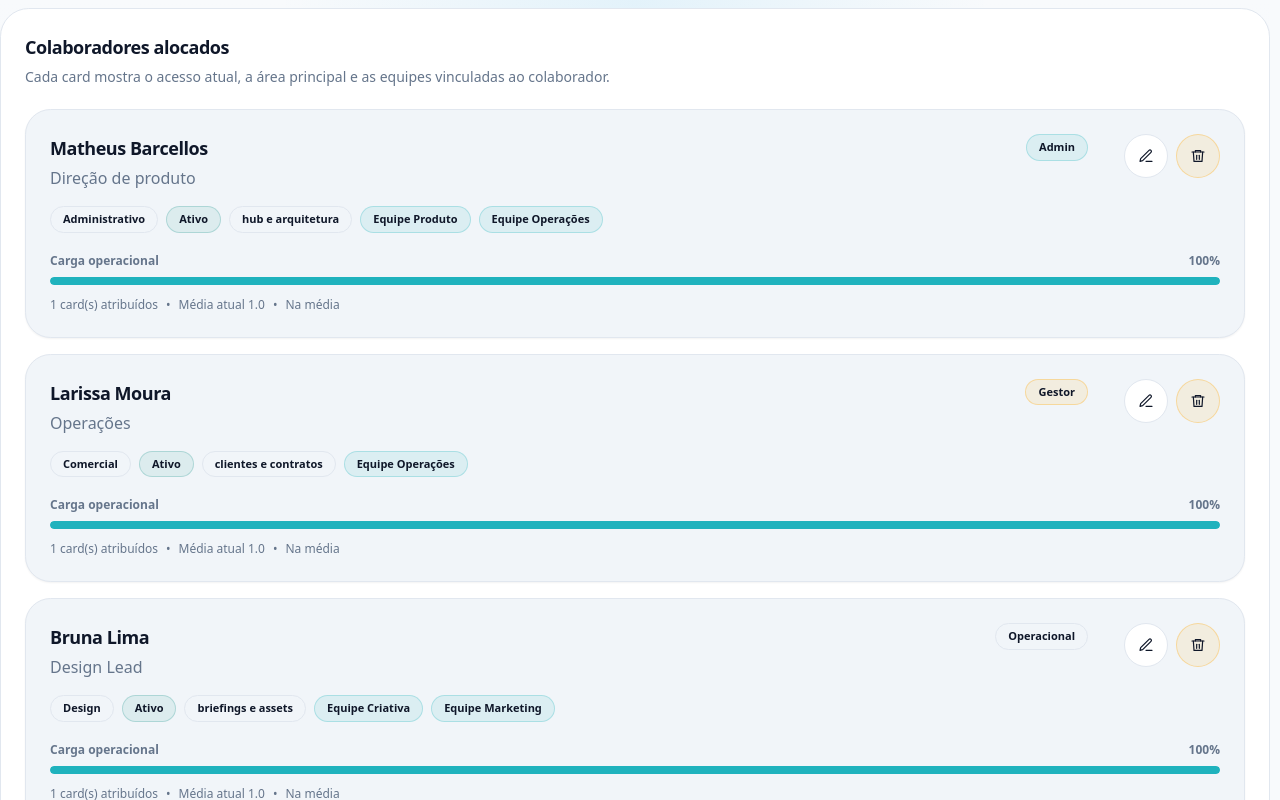
Test: AdministrativoColaboradoresPage › edits and removes an existing collaborator
(page scrolled)
Expected: the text "Larissa Moura" is shown, [50,380,171,404]
Click the button named "Editar colaborador Larissa Moura" at (1146, 400), box [1124,378,1168,422]
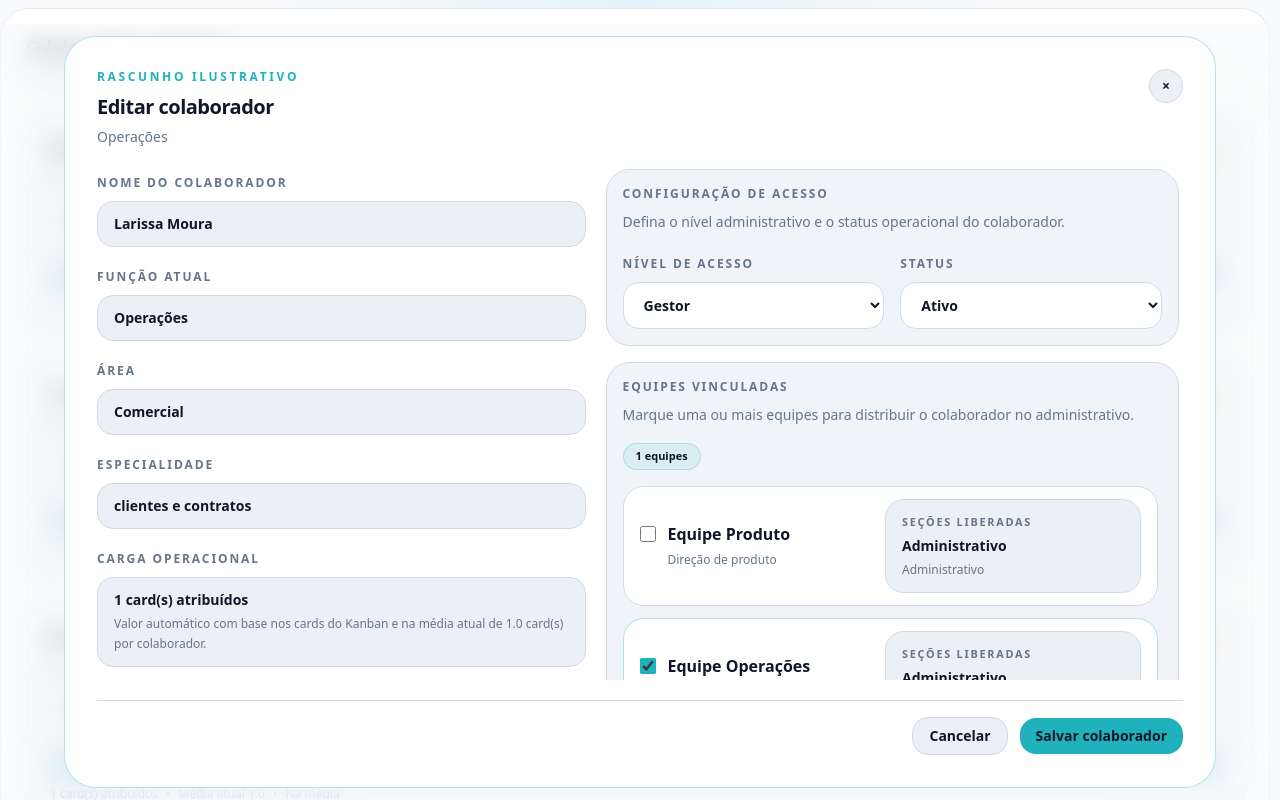
Now the dialog is shown
Replace the text in the field labelled "Nome do colaborador" with "Larissa Moura Atualizada" at (341, 224), box [97,201,586,247]
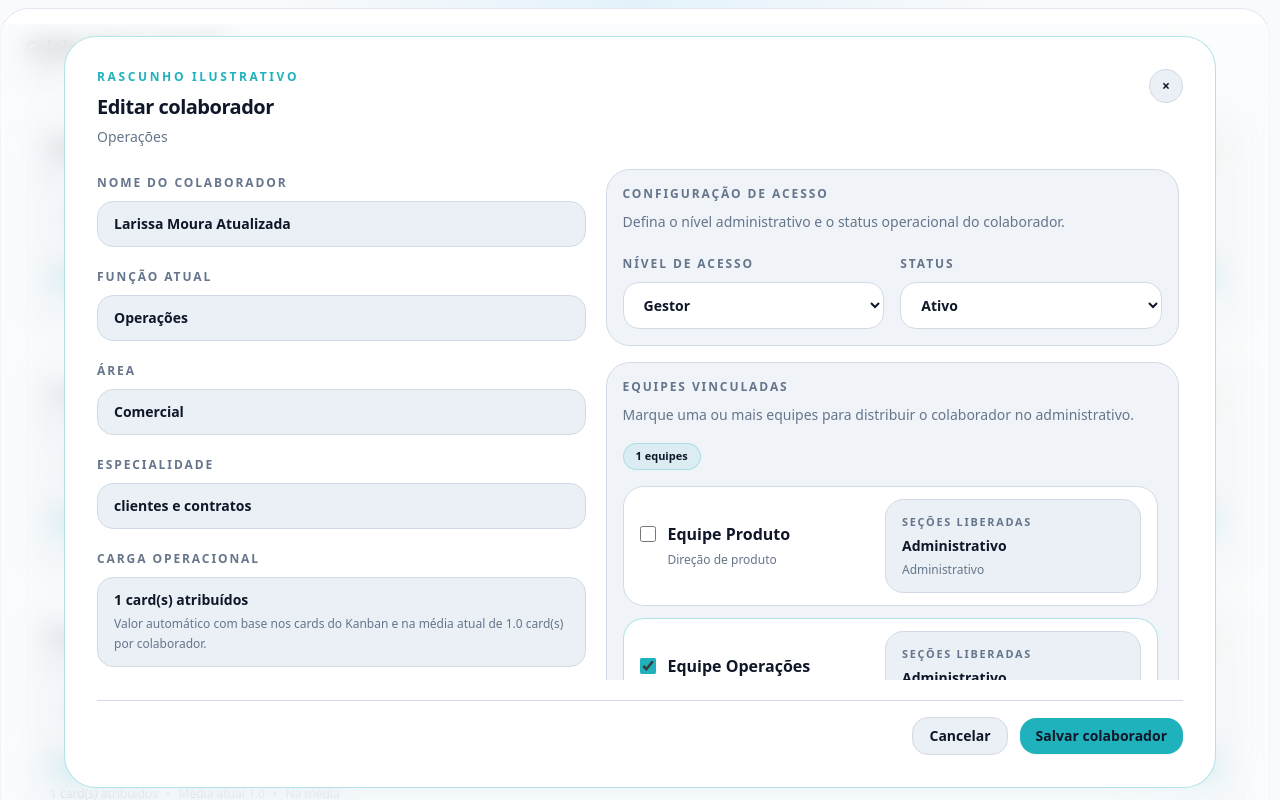
Click the button "Salvar colaborador" at (1101, 736), box [1020,718,1183,754]
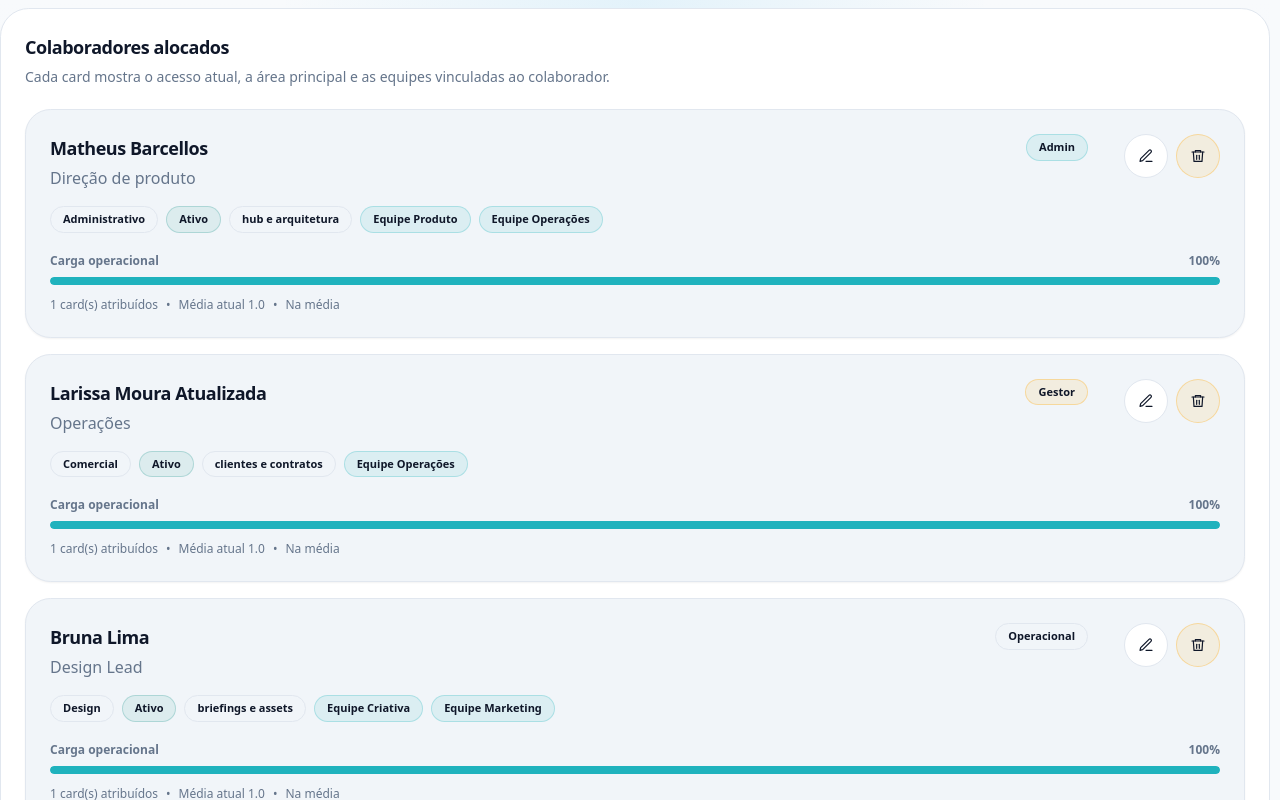
Expected: the text "Larissa Moura" is shown, [50,380,266,404]
Now the text "Larissa Moura Atualizada" is shown, box [50,378,266,406]
Click the button named "Remover colaborador Larissa Moura Atualizada" at (1198, 400), box [1176,378,1220,422]
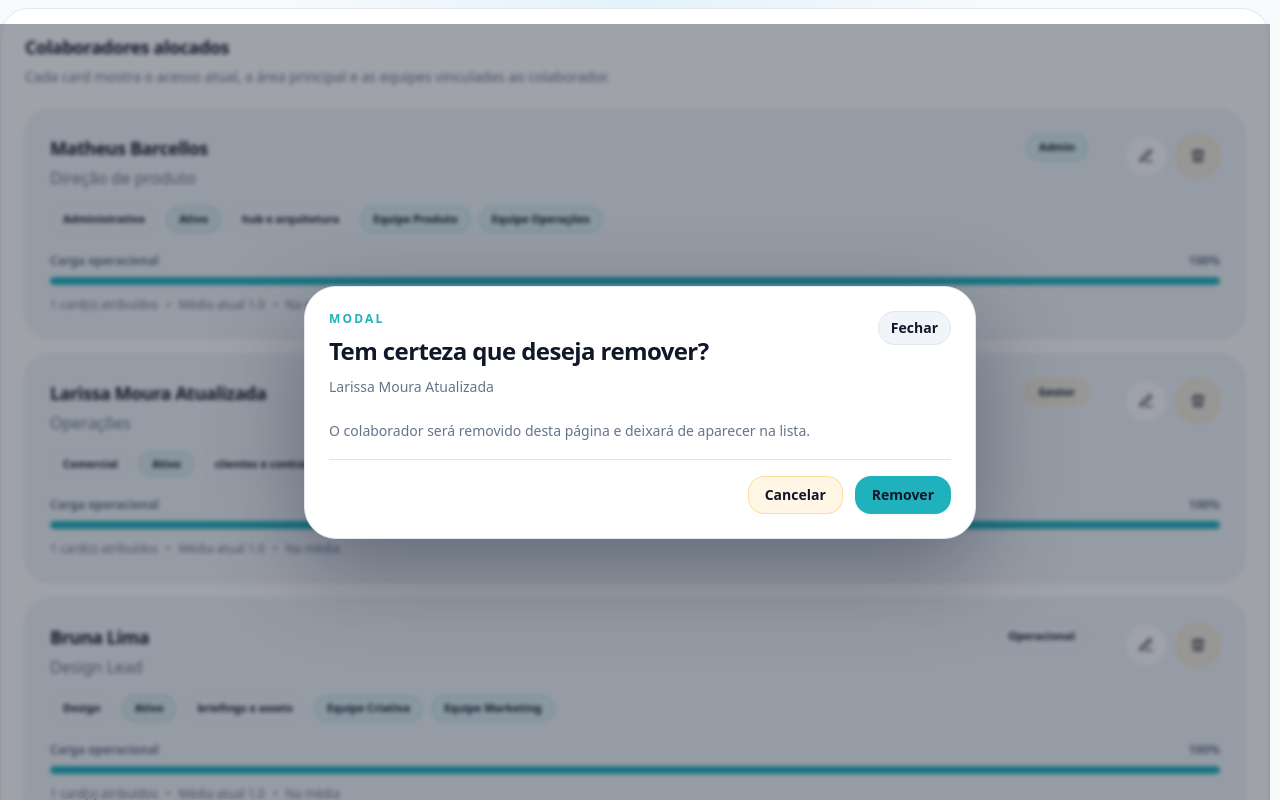
Now the text "O colaborador será removido desta página e deixará de aparecer na lista." is shown, box [329,420,810,440]
Click the button "Remover" at (903, 494), box [855,476,951,514]
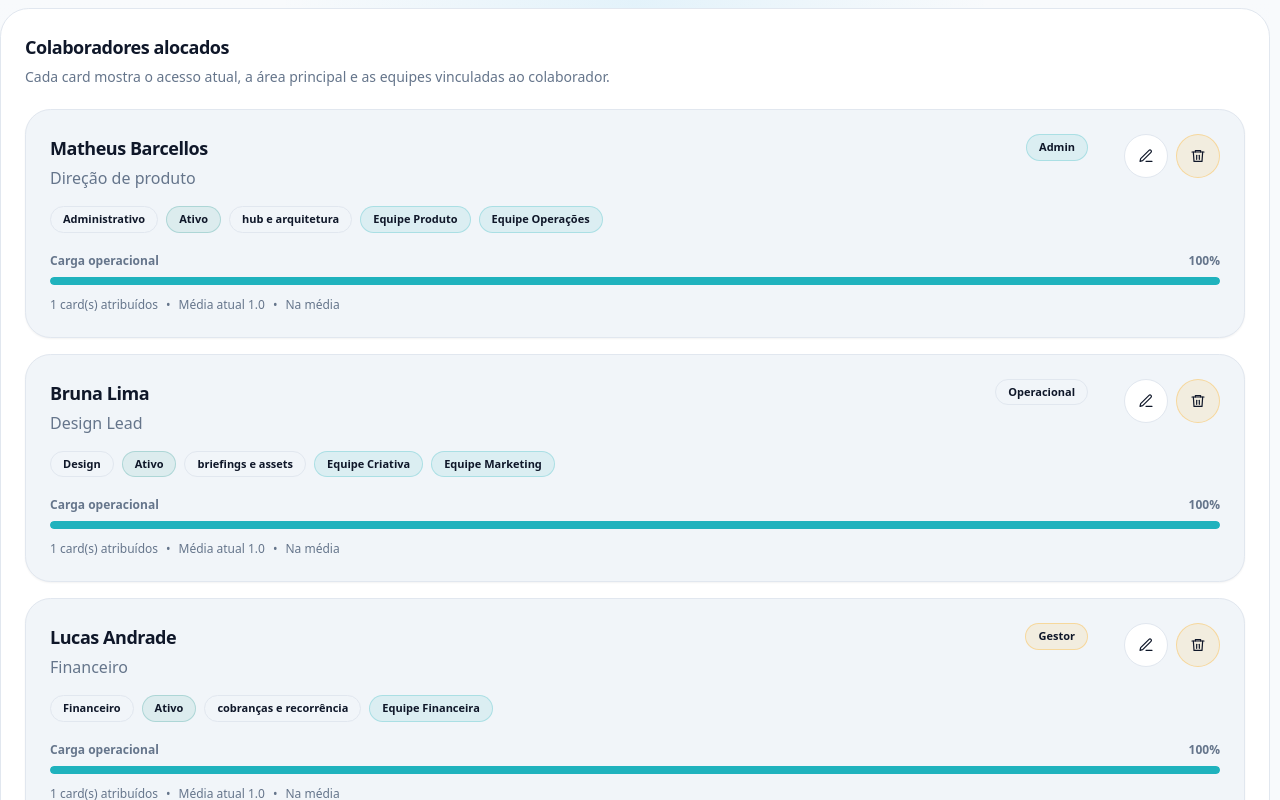
Now the text "Larissa Moura Atualizada" is gone
